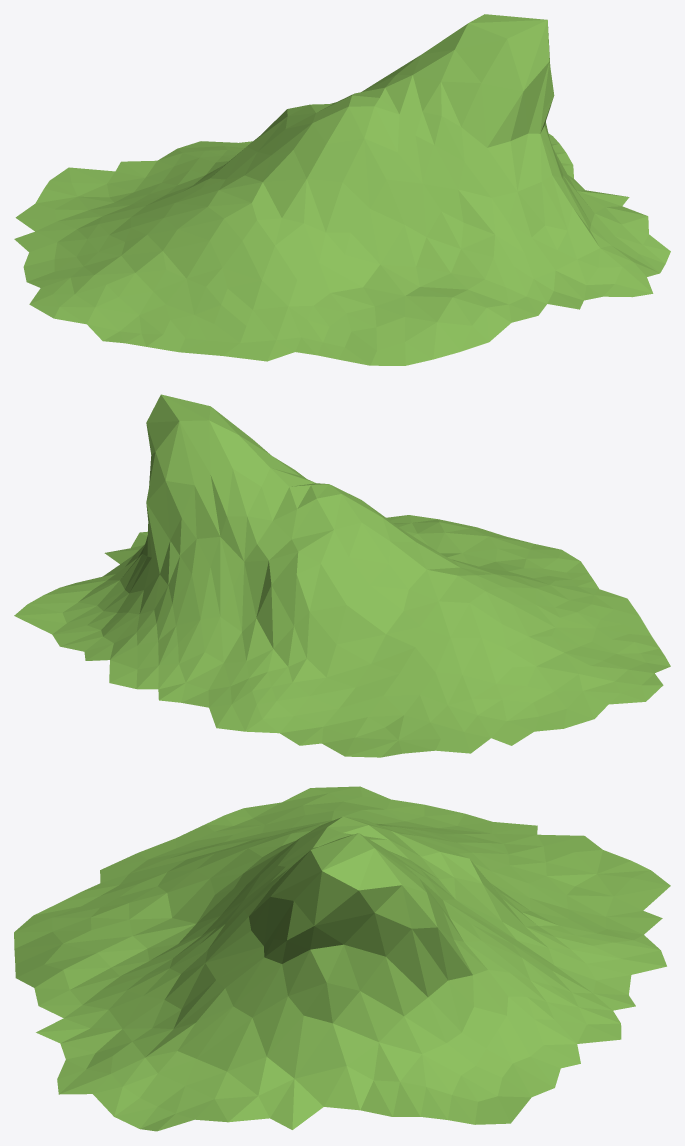
Rendered from MT_Mountain_L_a_14.fbx.
3 renders of one model, top to bottom at view 1: azimuth 30°, elevation 25°; view 2: azimuth 150°, elevation 25°; view 3: azimuth 270°, elevation 25°, orthographic. The views are drawn at different scales.
Parts seen in each view (by area): view 1: MT_Mountain_L_a_14; view 2: MT_Mountain_L_a_14; view 3: MT_Mountain_L_a_14.
Boxes of the visible parts, <box> form: MT_Mountain_L_a_14: <box>14,14,670,365</box>; MT_Mountain_L_a_14: <box>14,394,670,757</box>; MT_Mountain_L_a_14: <box>14,786,670,1131</box>.
Bounding box in the file's own units: 6410 × 2128 × 5382.
